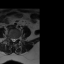CCS_stenosis: (13, 36, 15, 43)
LFS_normal: (16, 36, 18, 41)
LLS_normal: (15, 36, 16, 42)
RFS_normal: (9, 35, 11, 41)
RLS_normal: (11, 36, 13, 42)
